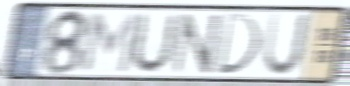8: (42, 7, 92, 78)
D: (213, 12, 263, 78)
M: (79, 10, 141, 75)
N: (170, 11, 225, 76)
U: (259, 11, 314, 80), (127, 10, 181, 77)
